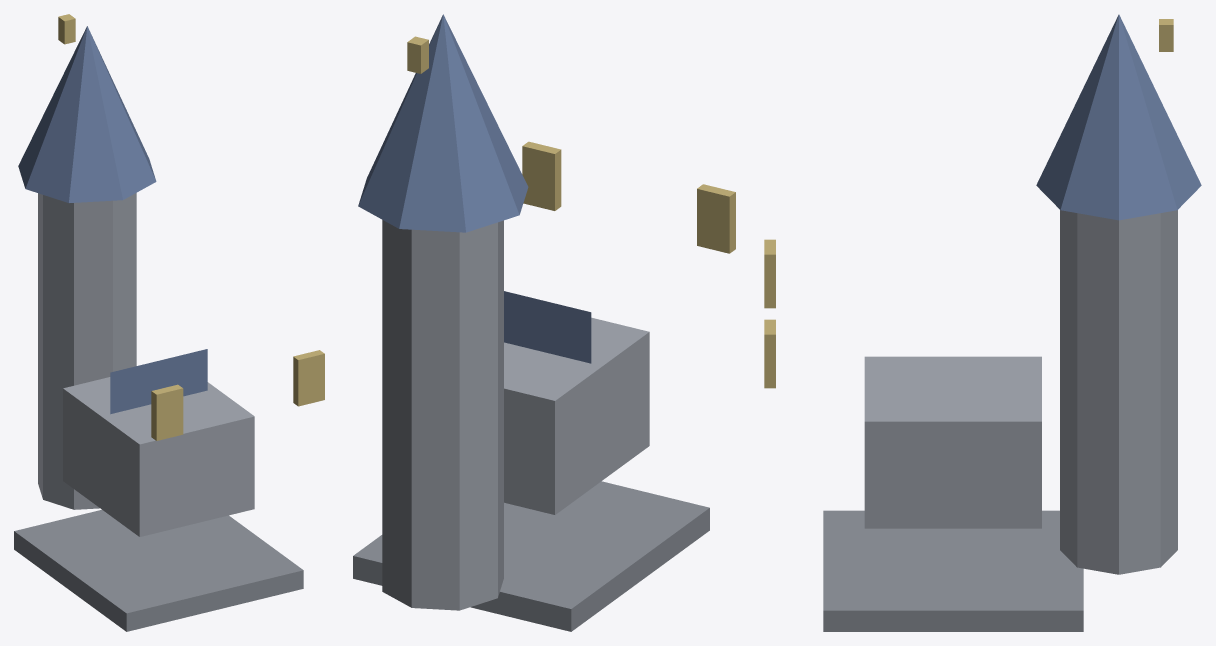
File: vanguard_chapel.glb
The picture shows the model from 3 angles, left to right: view 1: azimuth 30°, elevation 25°; view 2: azimuth 150°, elevation 25°; view 3: azimuth 270°, elevation 25°; orthographic projection. The views are drawn at different scales.
Parts seen in each view (by area): view 1: vanguard_chapel; view 2: vanguard_chapel; view 3: vanguard_chapel.
Boxes of the visible parts, bbox=[...] form: vanguard_chapel: bbox=[14, 14, 324, 631]; vanguard_chapel: bbox=[353, 14, 735, 631]; vanguard_chapel: bbox=[764, 14, 1201, 631].
Size of the model in its own units: 20 by 53 by 37.
